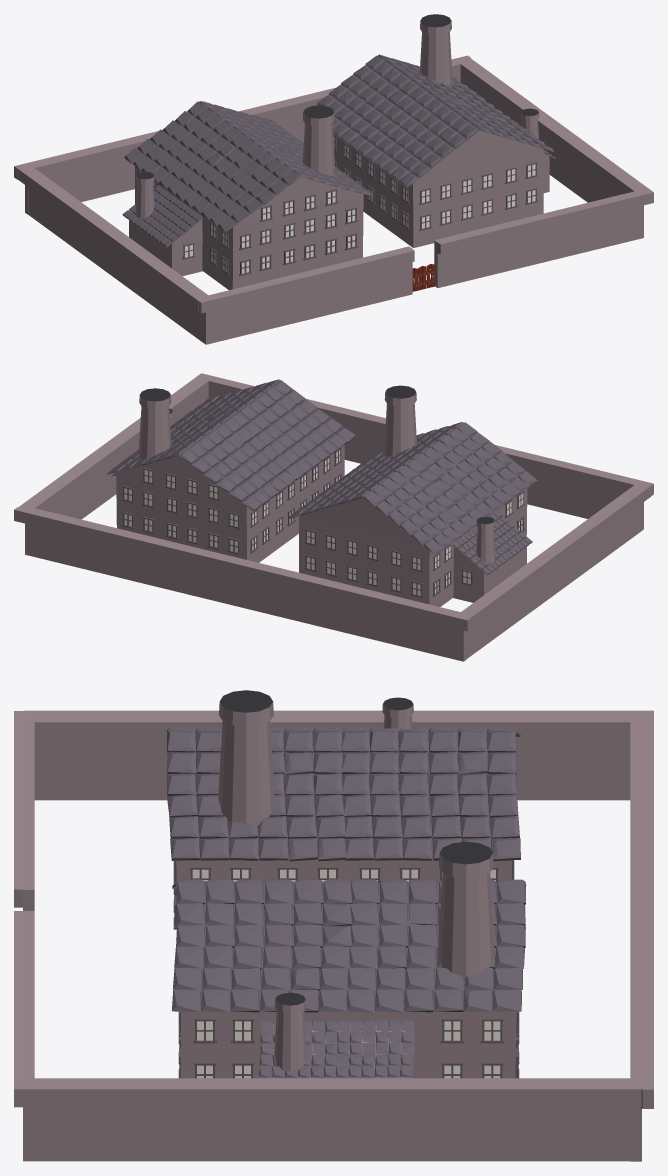
The model's file is Factory.fbx.
3 views of the same model, one above another, from view 1: azimuth 30°, elevation 25°; view 2: azimuth 150°, elevation 25°; view 3: azimuth 270°, elevation 25° (orthographic). The views are drawn at different scales.
Visible parts, largest first — view 1: Завод; view 2: Завод; view 3: Завод.
Part boxes in pixels (box(x1,y1,x2,y2)): Завод: box(14, 14, 653, 344); Завод: box(14, 373, 653, 661); Завод: box(14, 690, 653, 1161).
Bounding box in the file's own units: 6271 × 1872 × 4472.
